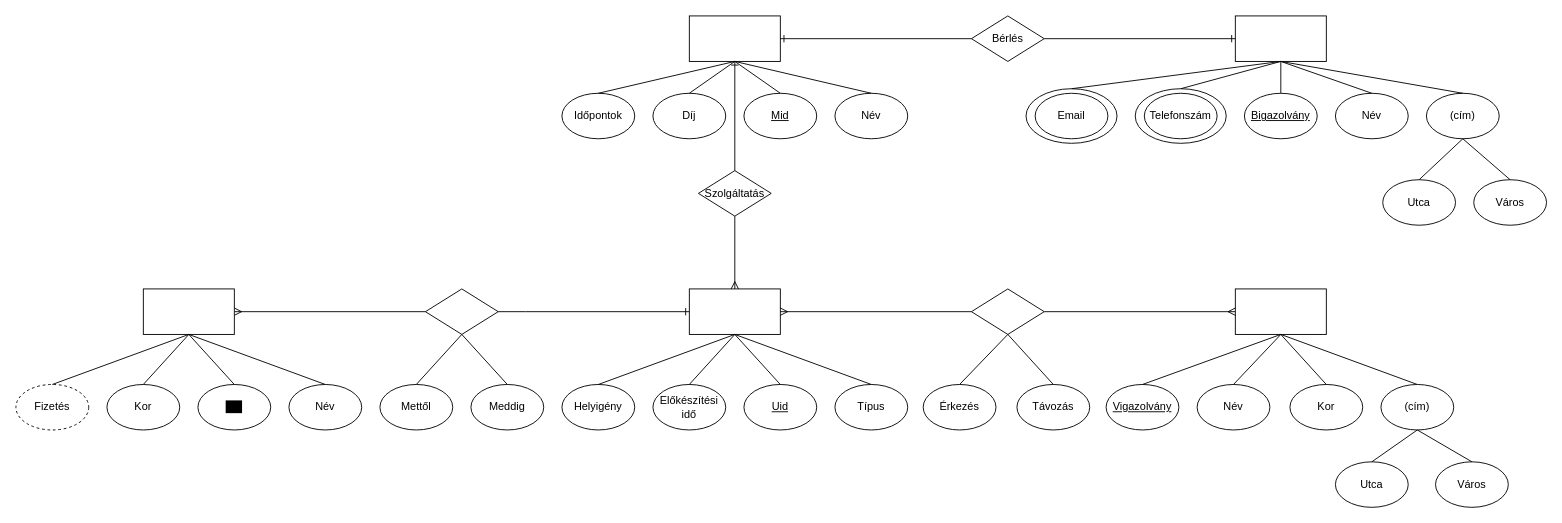
Some shapes in this 1562 by 523 pixel diagram are drawn without their labels. The centre of each missing label's shape, as x and y in pixels:
Alkalmazottak: pixel 188 311
Beosztás: pixel 461 311
Bérlő: pixel 1280 38
Látogatás: pixel 1007 311
Magánvállalkozás: pixel 734 38
Ugrálóvár: pixel 734 311
Vendég: pixel 1280 311
